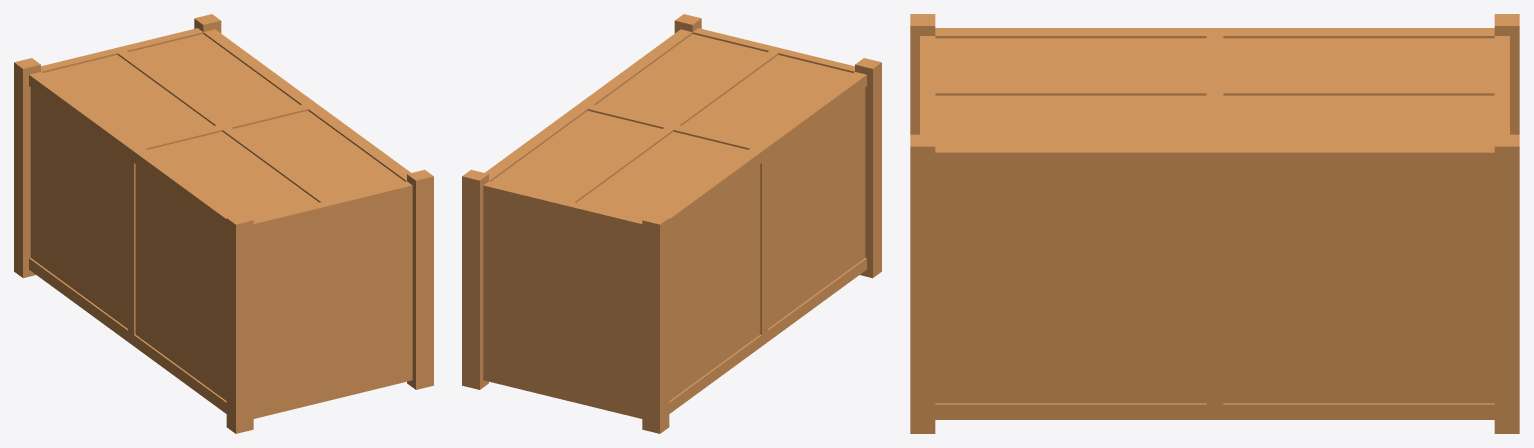
File: Container.fbx
3 renders of one model, left to right at view 1: azimuth 30°, elevation 25°; view 2: azimuth 150°, elevation 25°; view 3: azimuth 270°, elevation 25°, orthographic. The views are drawn at different scales.
Visible parts, largest first — view 1: Container; view 2: Container; view 3: Container.
Boxes of the visible parts, box(x1,y1,x2,y2) form: Container: box(14, 14, 433, 433); Container: box(462, 14, 881, 433); Container: box(910, 14, 1519, 433).
Size of the model in its own units: 3.19 by 3.22 by 6.19.
